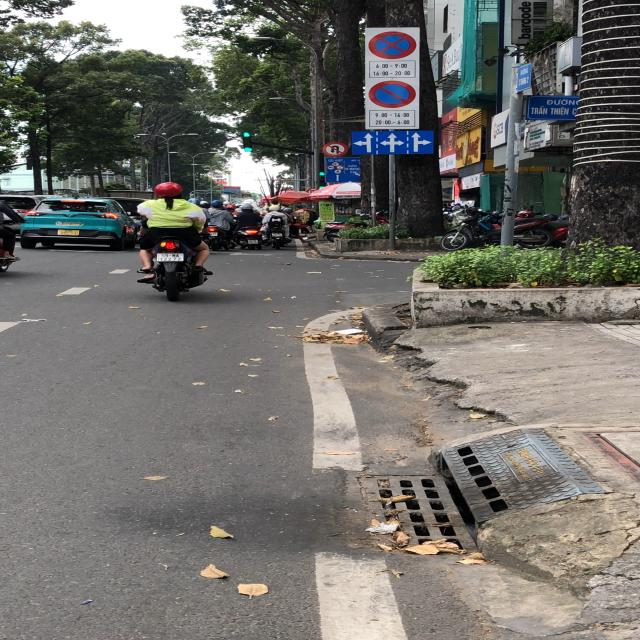Bien bao cam do xe: (367, 80, 420, 110)
Bien bao cam dung xe va do xe: (365, 30, 420, 62)
Bien bao cam quay dau xe: (322, 140, 349, 158)
